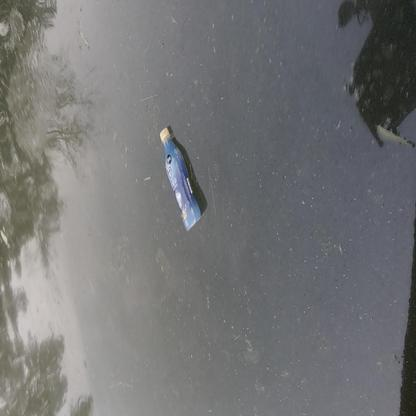plastic bottle: (158, 127, 202, 232)
